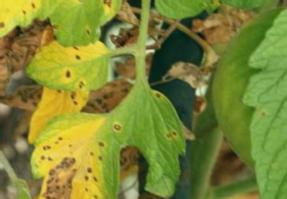Tomato Septoria leaf spot: (9, 85, 142, 199), (24, 31, 116, 98)
